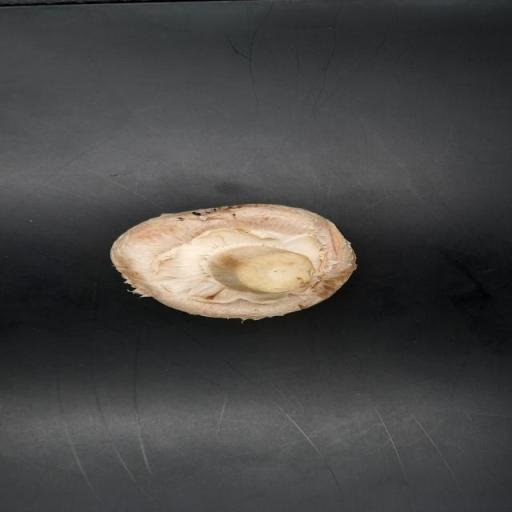Button Mushroom: (105, 194, 363, 335)
